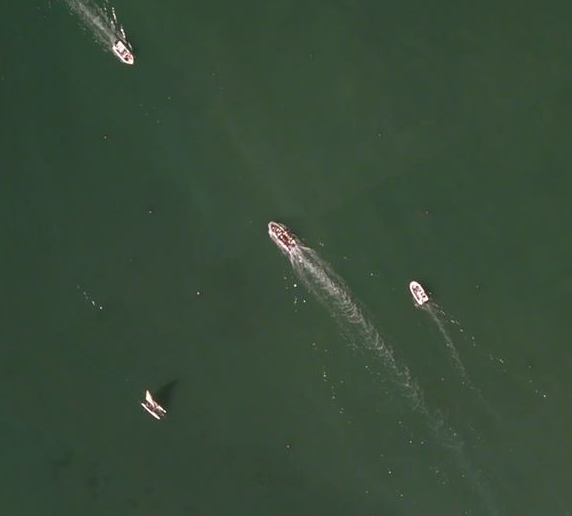ship: (265, 219, 312, 261), (134, 388, 175, 424), (108, 38, 141, 68), (406, 279, 434, 311)
